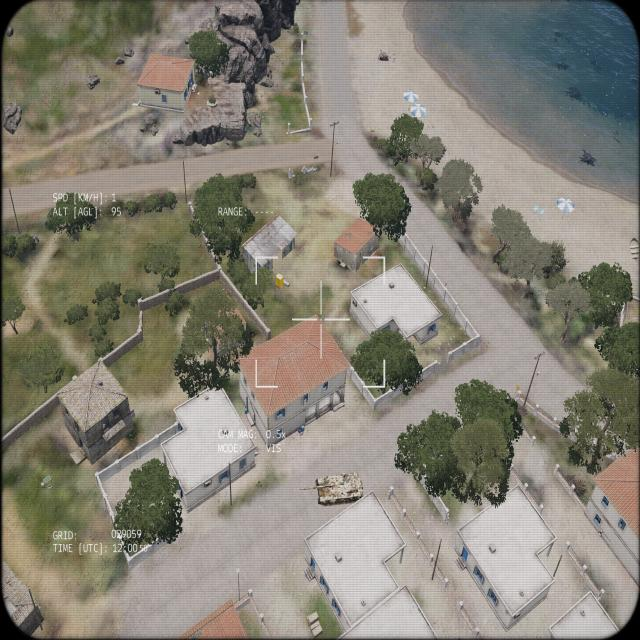tank: (298, 470, 364, 507)
